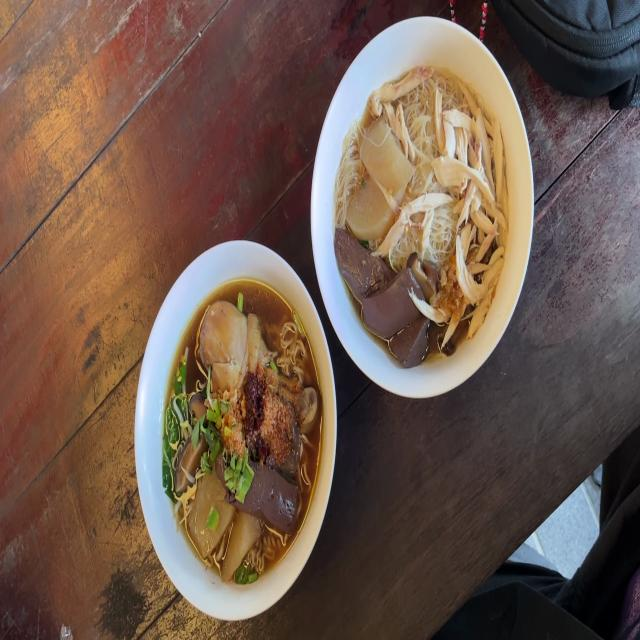boiled_chicken_blood_jelly: (339, 234, 381, 306), (252, 468, 298, 530), (369, 268, 410, 332), (392, 318, 428, 367)
chicken_drumstick: (195, 303, 318, 436)
chicken_shredded: (440, 93, 508, 314), (366, 67, 434, 116)
daikon_radish: (346, 118, 408, 242), (188, 478, 229, 552), (229, 503, 254, 573)
noodle: (342, 62, 505, 374), (162, 291, 316, 568)
